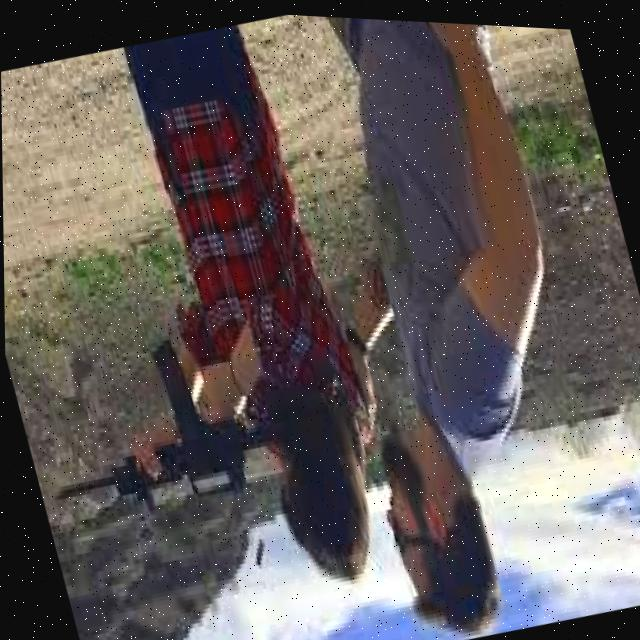firearm: (20, 316, 280, 537)
